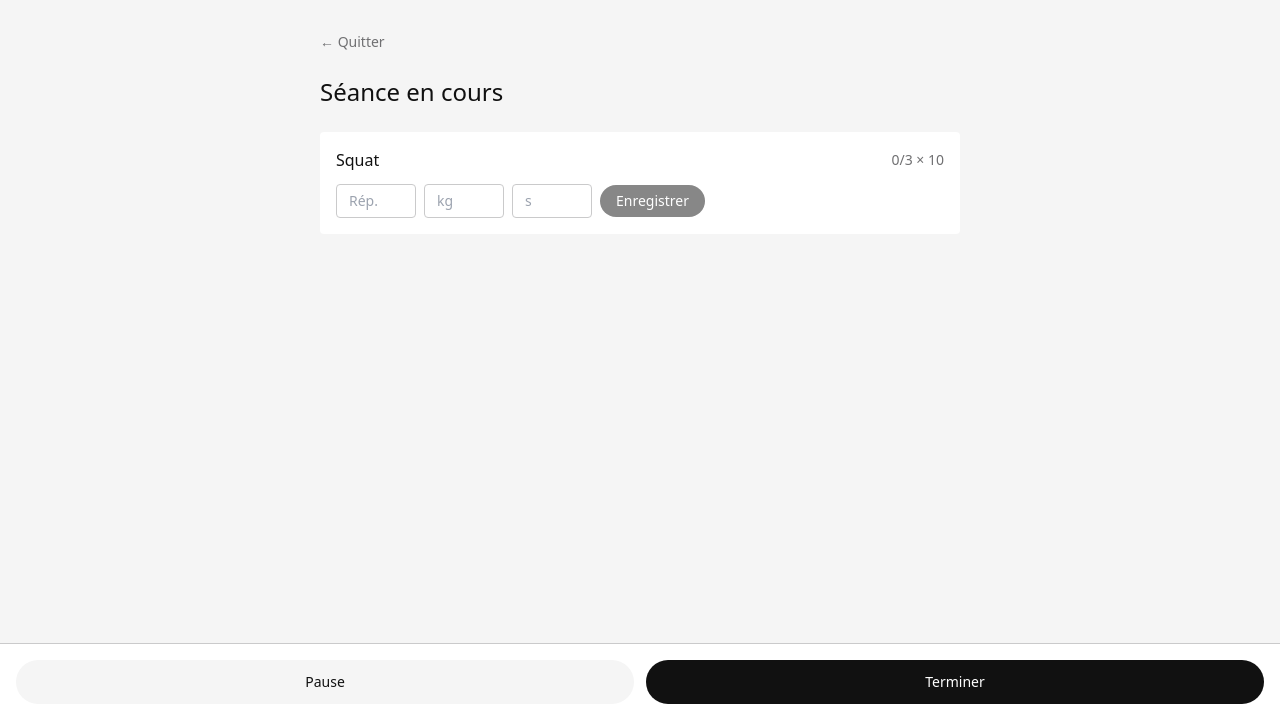
Test: ExecutionPage › toast shown on logSet failure
Expected: the text "Squat" is shown, [336,148,379,172]
Type "5" into the number field named "Répétitions".
click(376, 201); type("5")  # box [336,184,416,218]
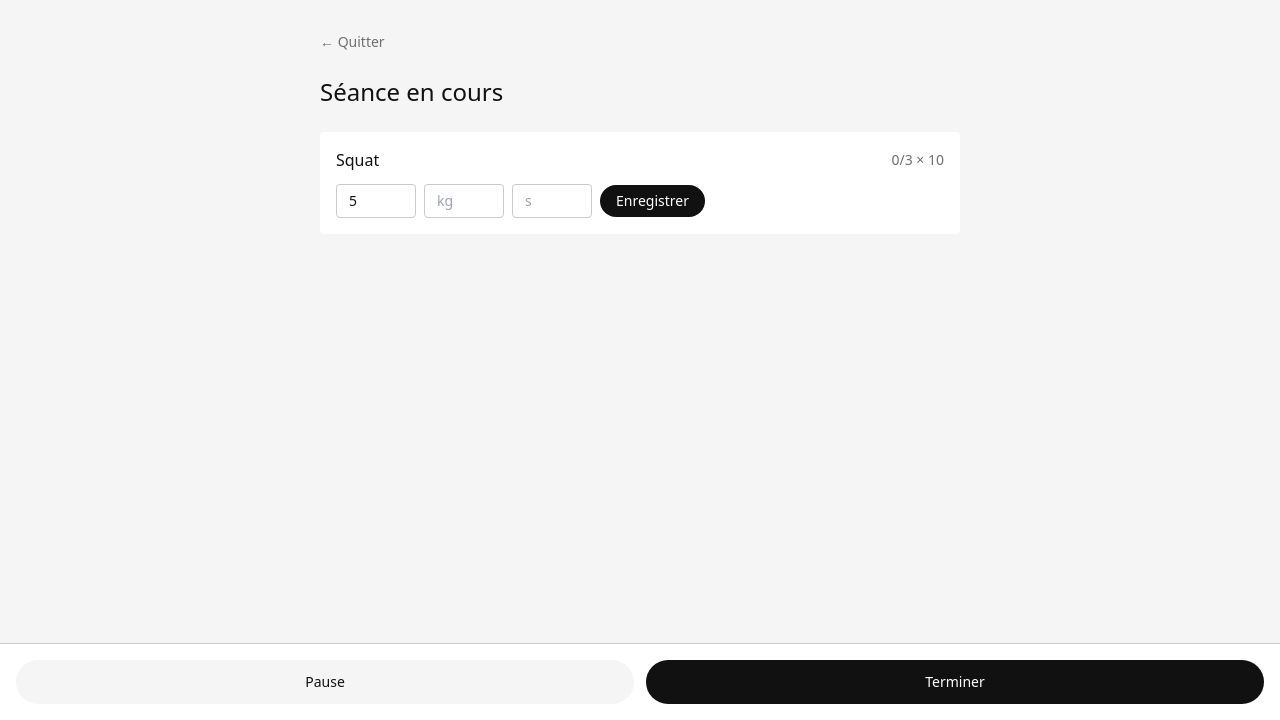
Click the button "Enregistrer".
click(652, 201)  # box [600,185,705,217]
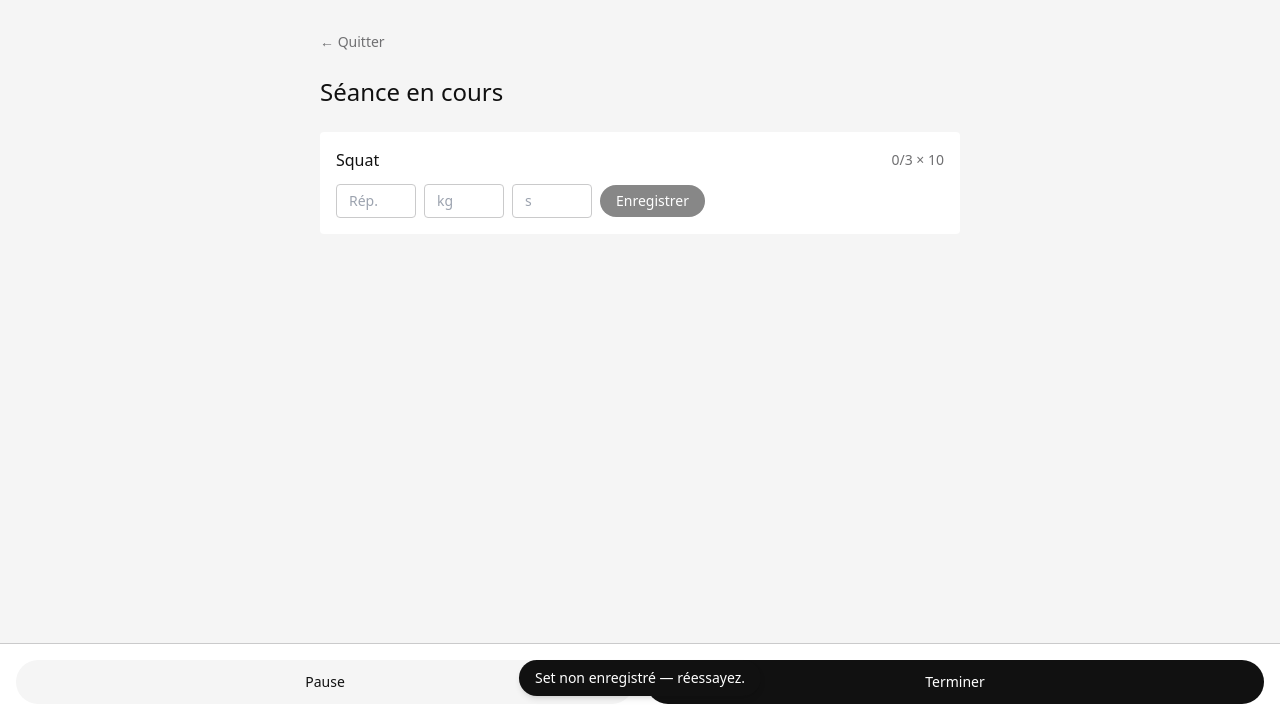
Expected: the text "Set non enregistré — réessayez." is shown, [519,660,761,696]
